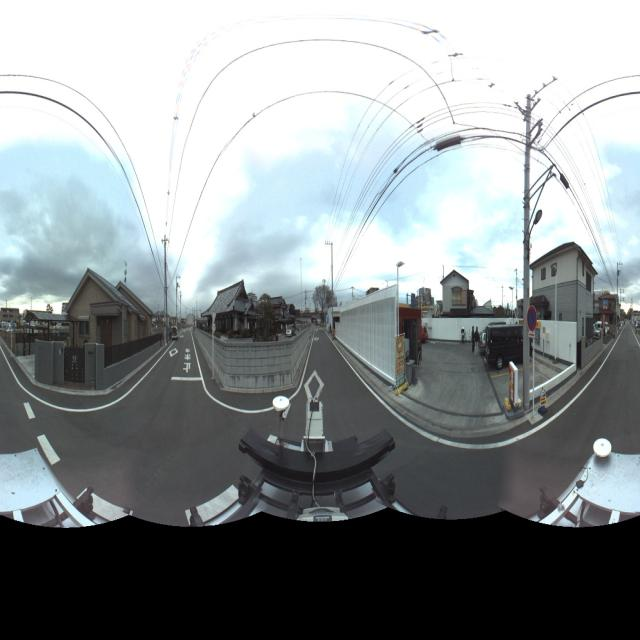b_1: (66, 266, 156, 355), (529, 236, 593, 357), (200, 271, 264, 347), (440, 264, 472, 328), (596, 284, 621, 341), (414, 279, 434, 325)
